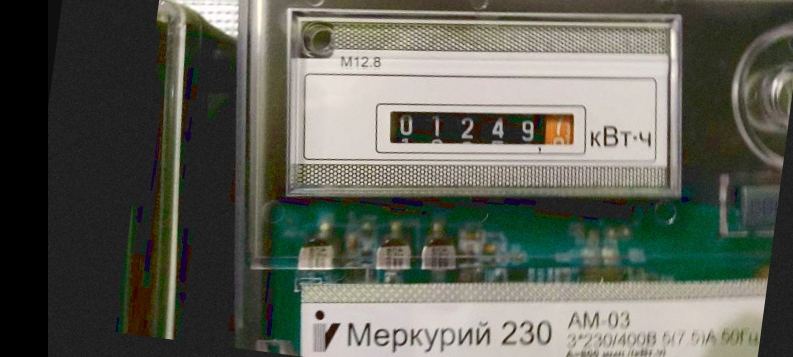0: (394, 108, 416, 136)
1: (426, 111, 444, 138)
2: (456, 113, 479, 141)
4: (488, 111, 510, 140)
7: (549, 111, 567, 137)
9: (517, 115, 539, 142)
screen: (363, 79, 604, 184)
